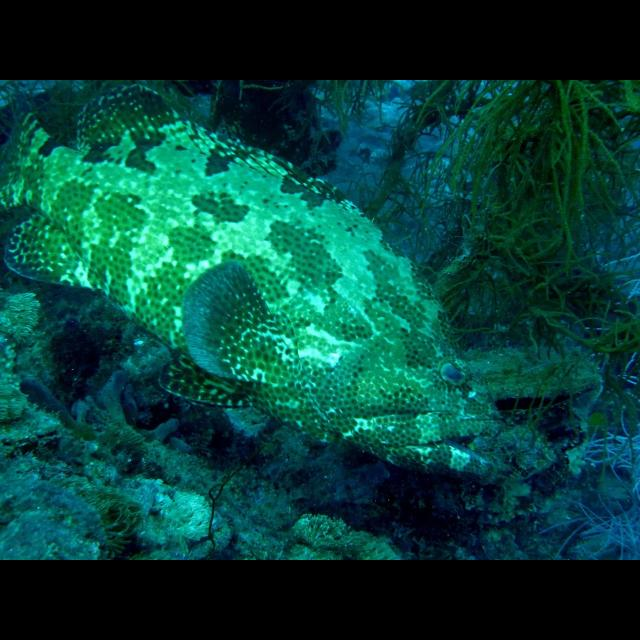Groupers: (0, 88, 504, 486)
